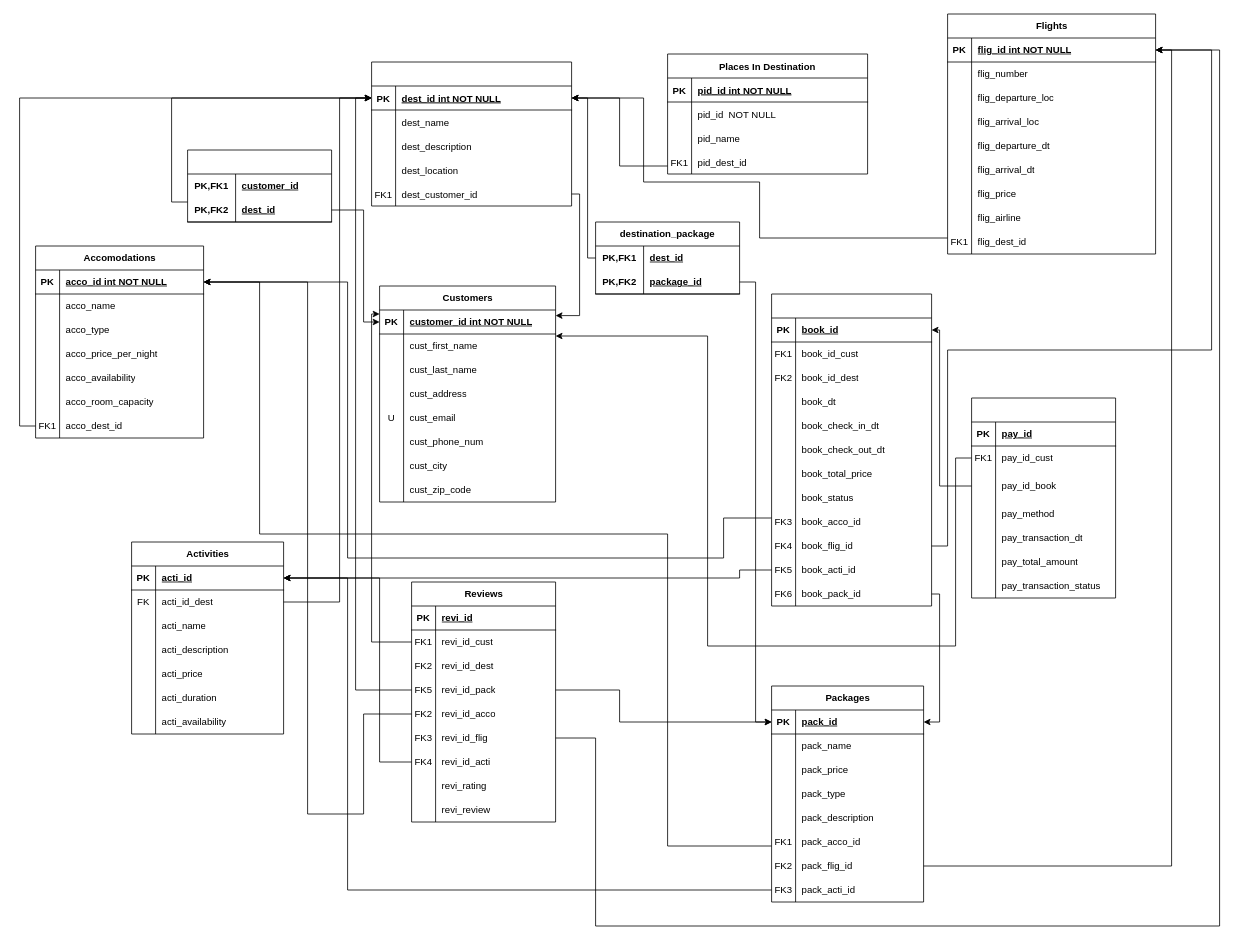
Image size: 1240x946. Some labels were removed from this diagram. Here are the shapes that lost their labels. From the top down, the box of each, then its label:
(371, 61, 572, 206): Destinations
(187, 149, 332, 222): customer_destination
(771, 293, 932, 606): Bookings
(971, 397, 1116, 598): Payments
